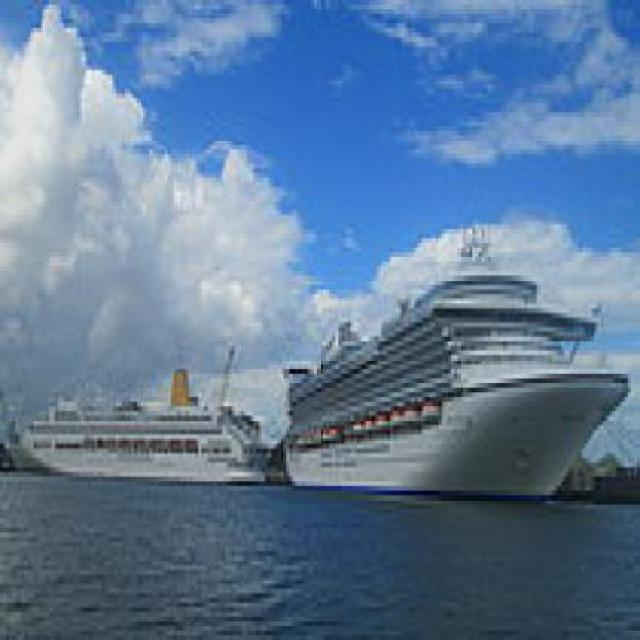cruise: (266, 211, 638, 520), (10, 357, 276, 506)
